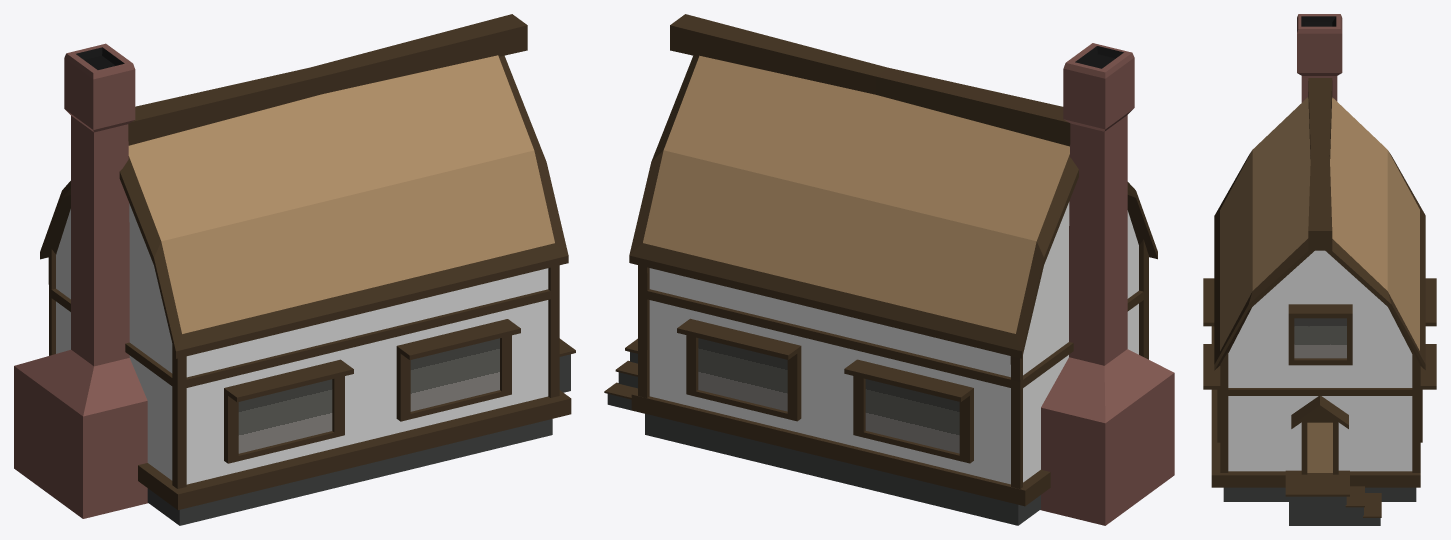
File: House2.fbx
3 renders of one model, left to right at view 1: azimuth 30°, elevation 25°; view 2: azimuth 150°, elevation 25°; view 3: azimuth 270°, elevation 25°, orthographic. The views are drawn at different scales.
Visible parts, largest first — view 1: House_Level_2; view 2: House_Level_2; view 3: House_Level_2.
Part boxes in pixels (bbox=[...]): House_Level_2: bbox=[14, 14, 575, 525]; House_Level_2: bbox=[604, 14, 1174, 525]; House_Level_2: bbox=[1203, 14, 1436, 525].
Bounding box in the file's own units: 1353 × 1106 × 702.
